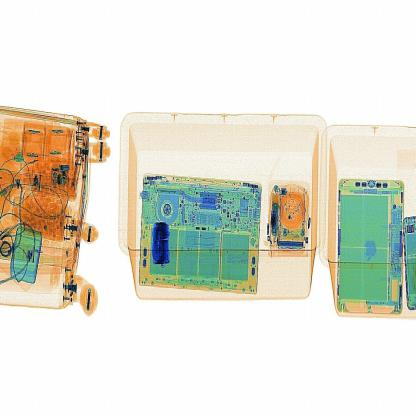scissors: (146, 209, 175, 271)
